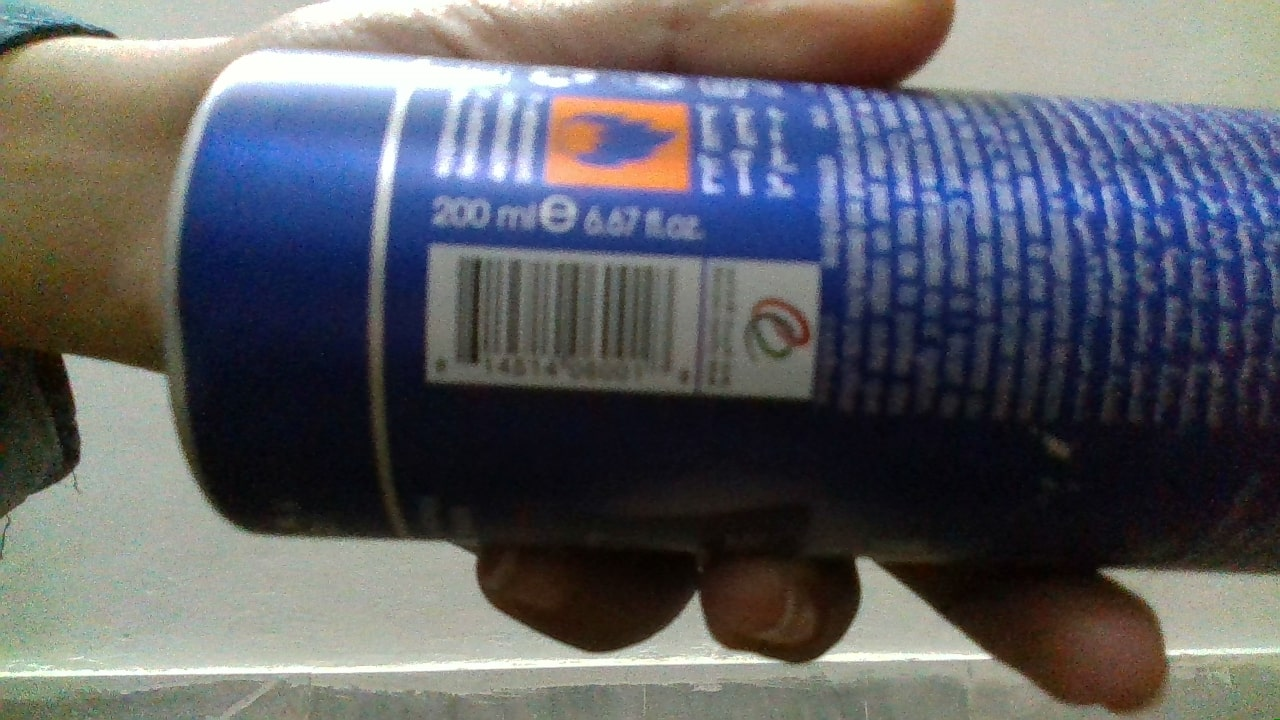Barcode: (452, 253, 677, 385)
